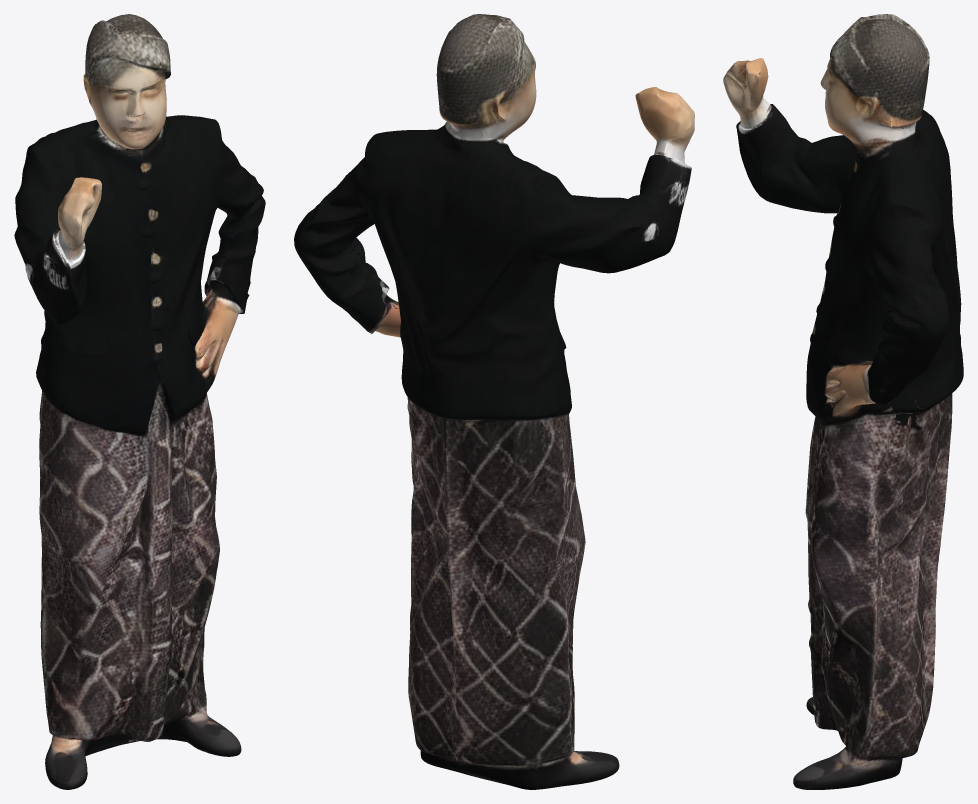
The model's file is remaja.opt.glb.
3 renders of one model, left to right at view 1: azimuth 30°, elevation 25°; view 2: azimuth 150°, elevation 25°; view 3: azimuth 270°, elevation 25°, orthographic. The views are drawn at different scales.
Parts seen in each view (by area): view 1: model; view 2: model; view 3: model.
Part boxes in pixels (box(x1,y1,x2,y2)): model: box(14, 14, 265, 789); model: box(294, 14, 694, 789); model: box(723, 14, 963, 789).
Bounding box in the file's own units: 0.7958 × 1.9 × 0.5658.
Materials: 1 (1 with a texture image).
